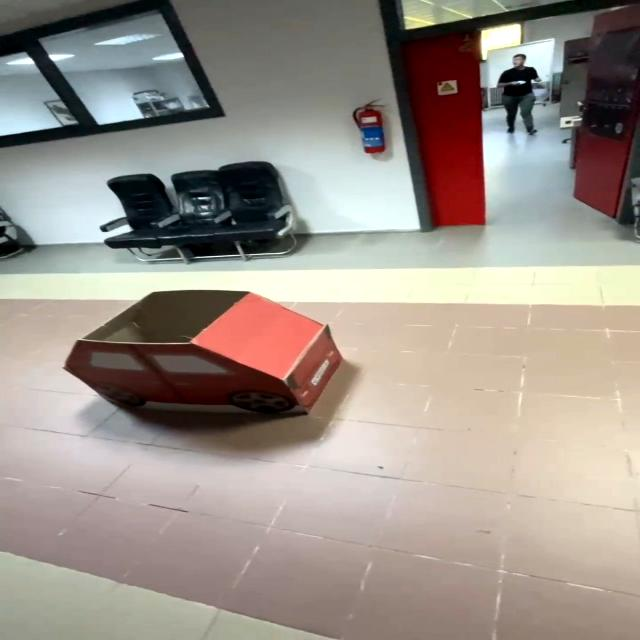red_car: (48, 272, 379, 463)
